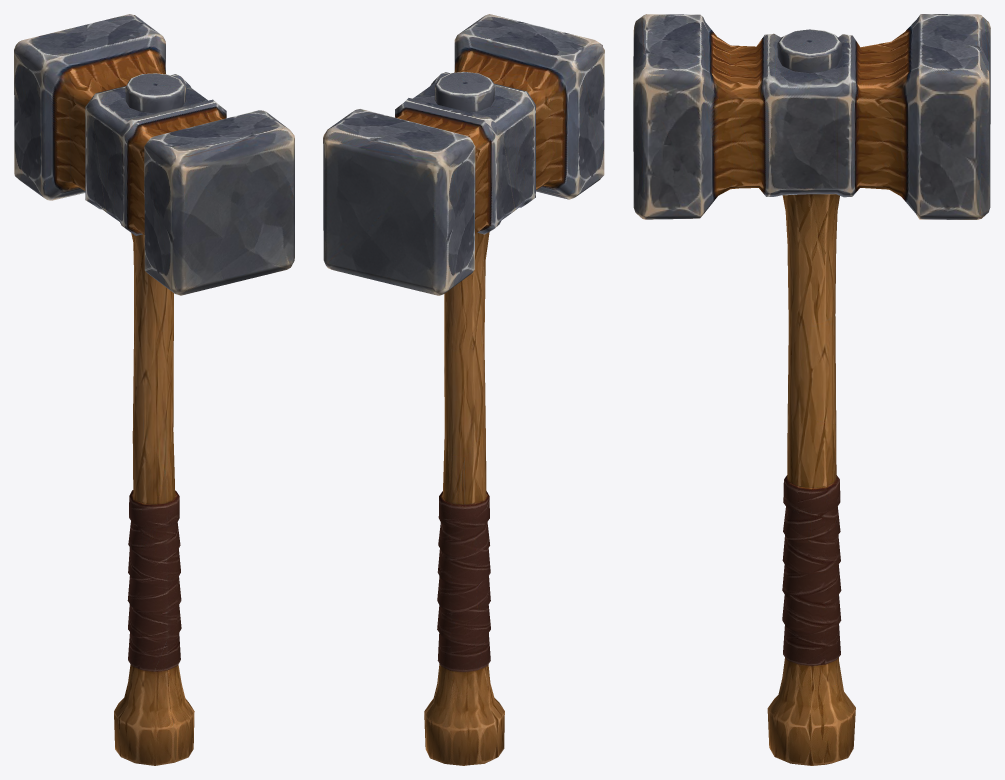
File: martillo.glb
3 views of the same model, side by side, from view 1: azimuth 30°, elevation 25°; view 2: azimuth 150°, elevation 25°; view 3: azimuth 270°, elevation 25° (orthographic). The views are drawn at different scales.
Parts seen in each view (by area): view 1: 0; view 2: 0; view 3: 0.
Part boxes in pixels (x1=…): 0: x1=14, y1=14, x2=294, y2=765; 0: x1=323, y1=14, x2=604, y2=765; 0: x1=633, y1=14, x2=990, y2=765.
Bounding box in the file's own units: 0.1952 × 1 × 0.4542.
1 material, 1 textured.
